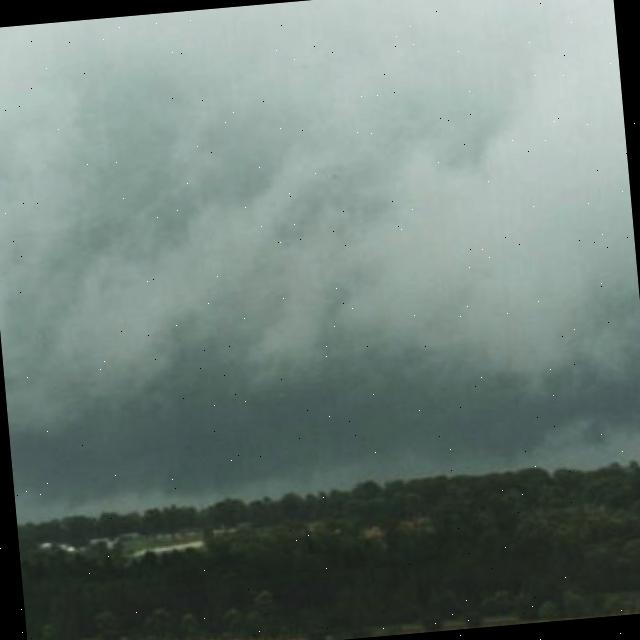Ns: (1, 1, 640, 485)
